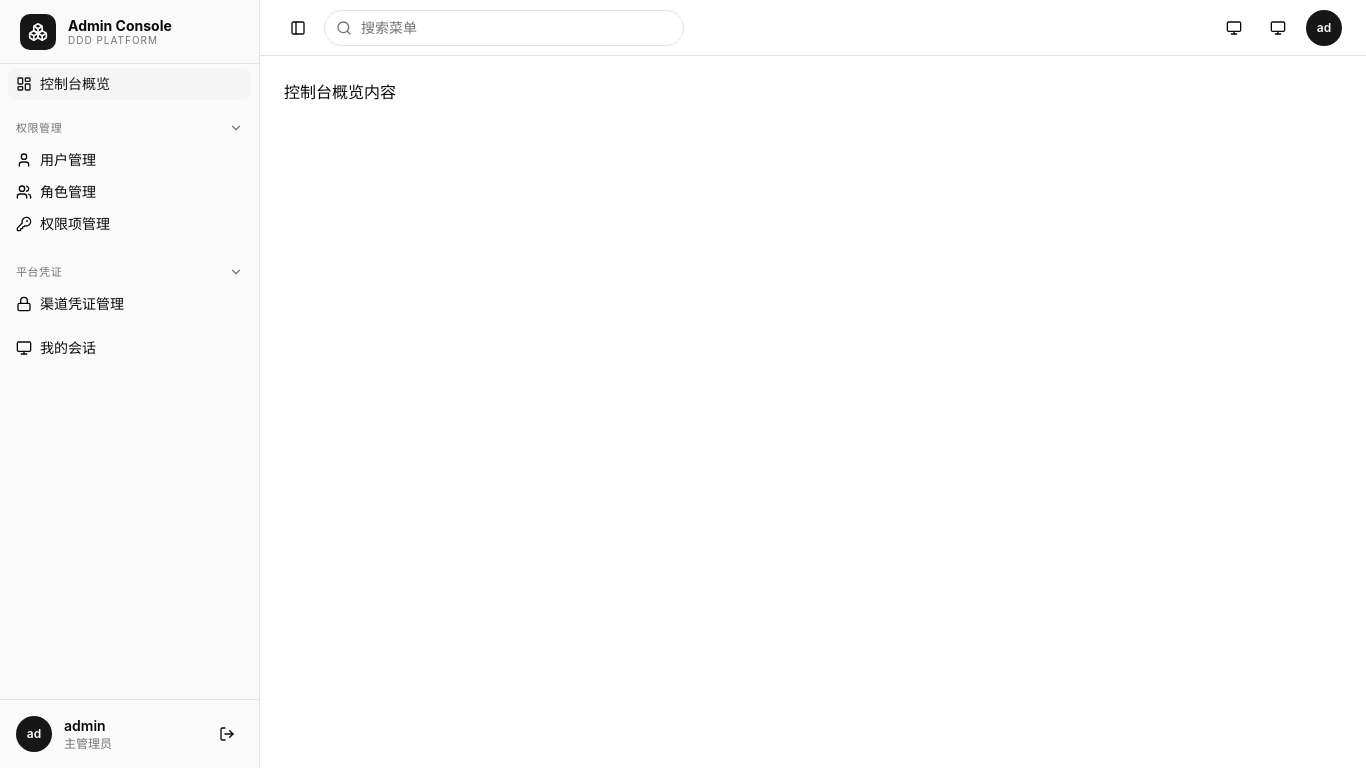
AppLayout 布局与菜单交互 › 6. 关键字的空格与大小写被容忍（例如 "  rbac  " 仍能命中分组）
The image size is (1366, 768).
Type "  权限管理  " into the field with placeholder "搜索菜单" at (504, 28), box [324,10,684,46]
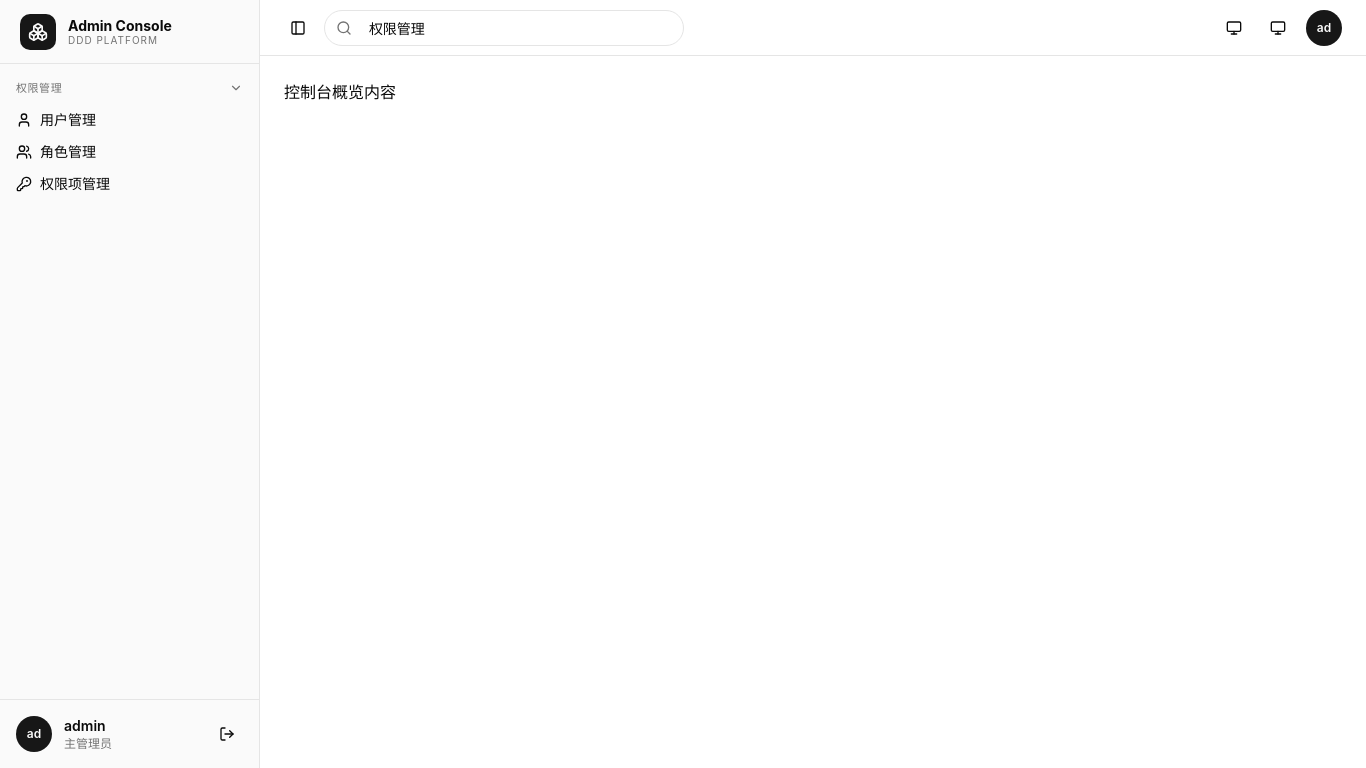
Expected: the text "权限管理" is shown, [16,81,62,95]
Expected: the button "平台凭证" is gone
Expected: the link "渠道凭证管理" is gone
